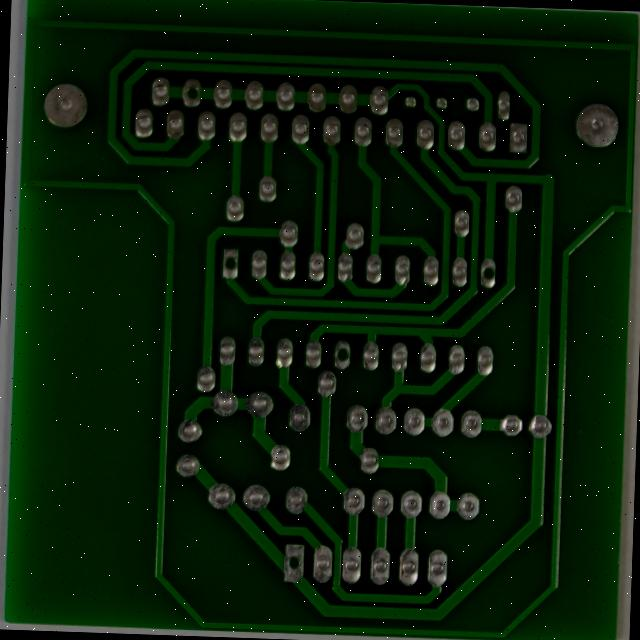missing_hole: (229, 535, 263, 566), (161, 190, 186, 225), (455, 202, 480, 233), (290, 295, 313, 327), (116, 0, 141, 26)
